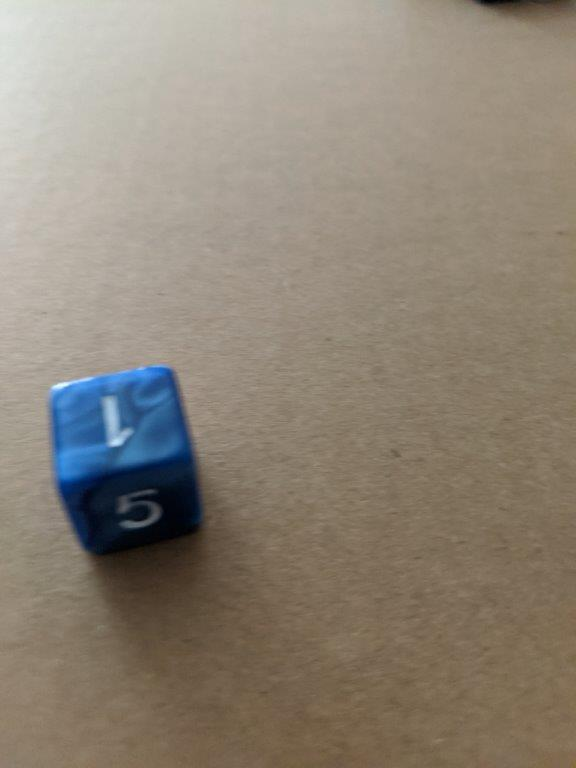d6-1: (45, 361, 205, 554)
